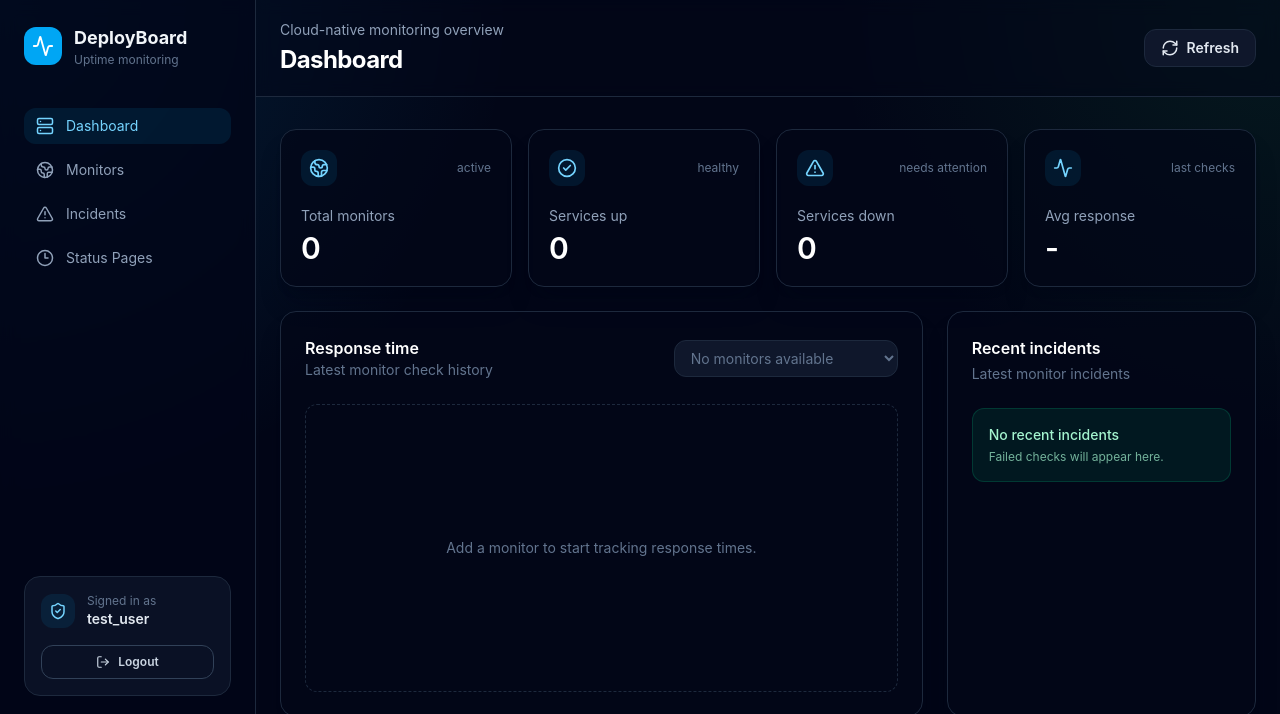
dashboard views › switches between every sidebar view
Expected: the heading "Dashboard" is shown, [280,45,403,74]
Click the button "Monitors": (128, 170) [24,152,231,188]
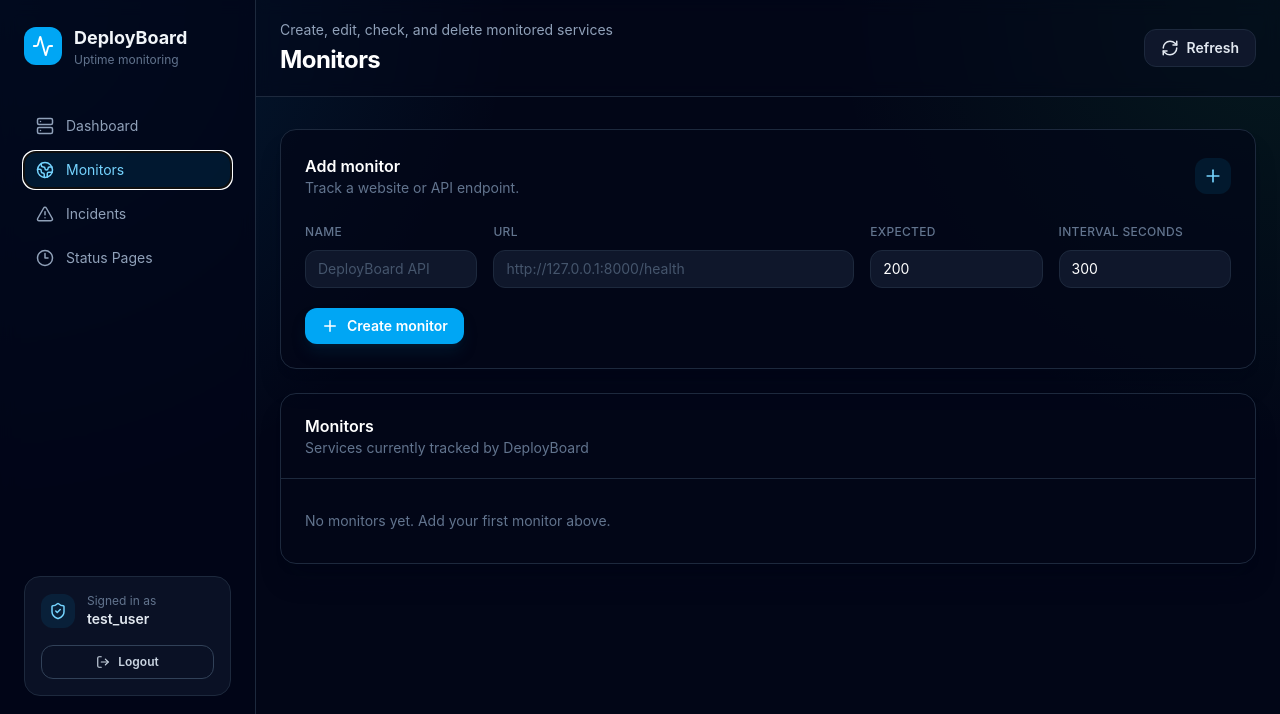
Expected: the 1st heading "Monitors" is shown, [280,45,380,74]
Click the button "Incidents": (128, 214) [24,196,231,232]
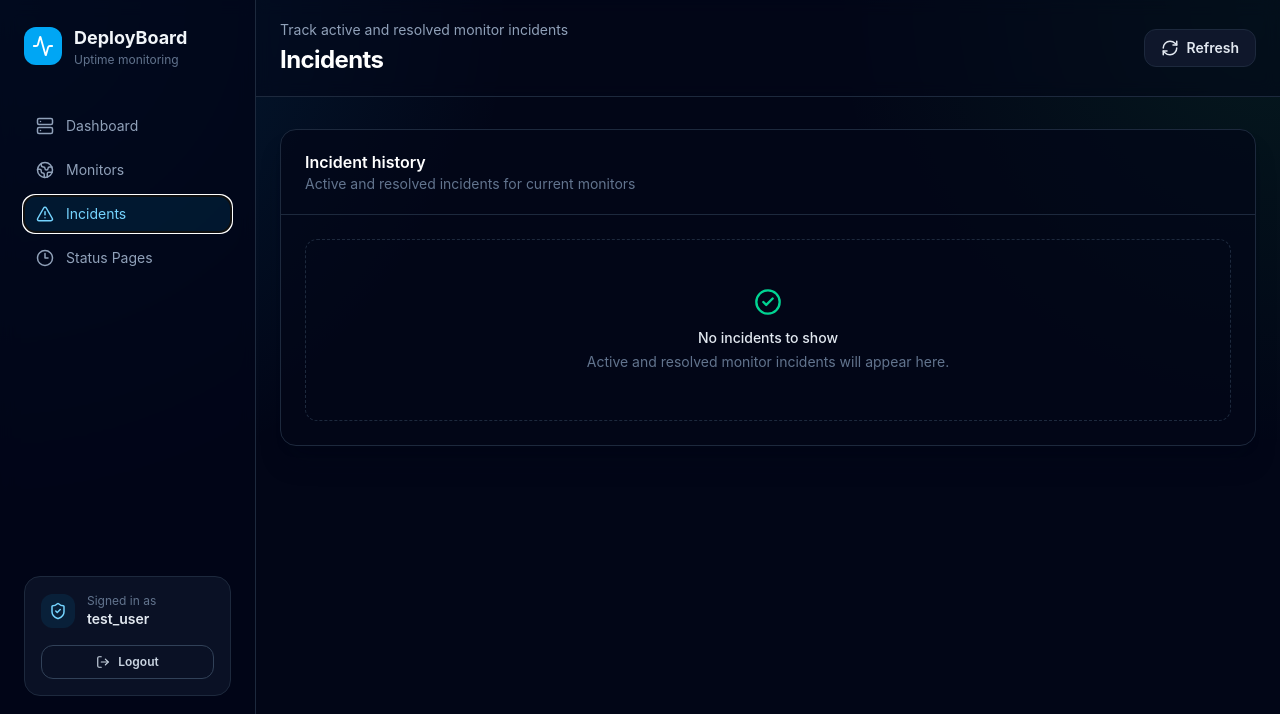
Expected: the heading "Incidents" is shown, [280,45,383,74]
Click the button "Status Pages": (128, 258) [24,240,231,276]
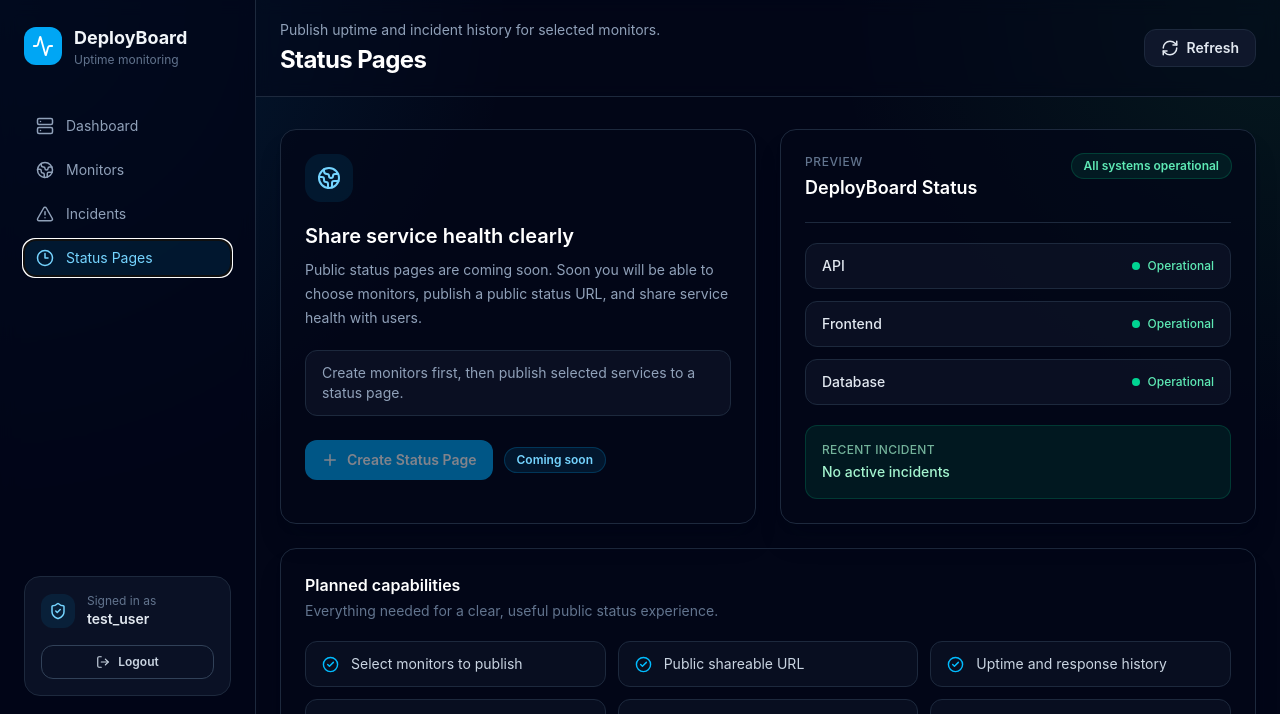
Expected: the heading "Status Pages" is shown, [280,45,426,74]
Click the button "Dashboard": (128, 126) [24,108,231,144]
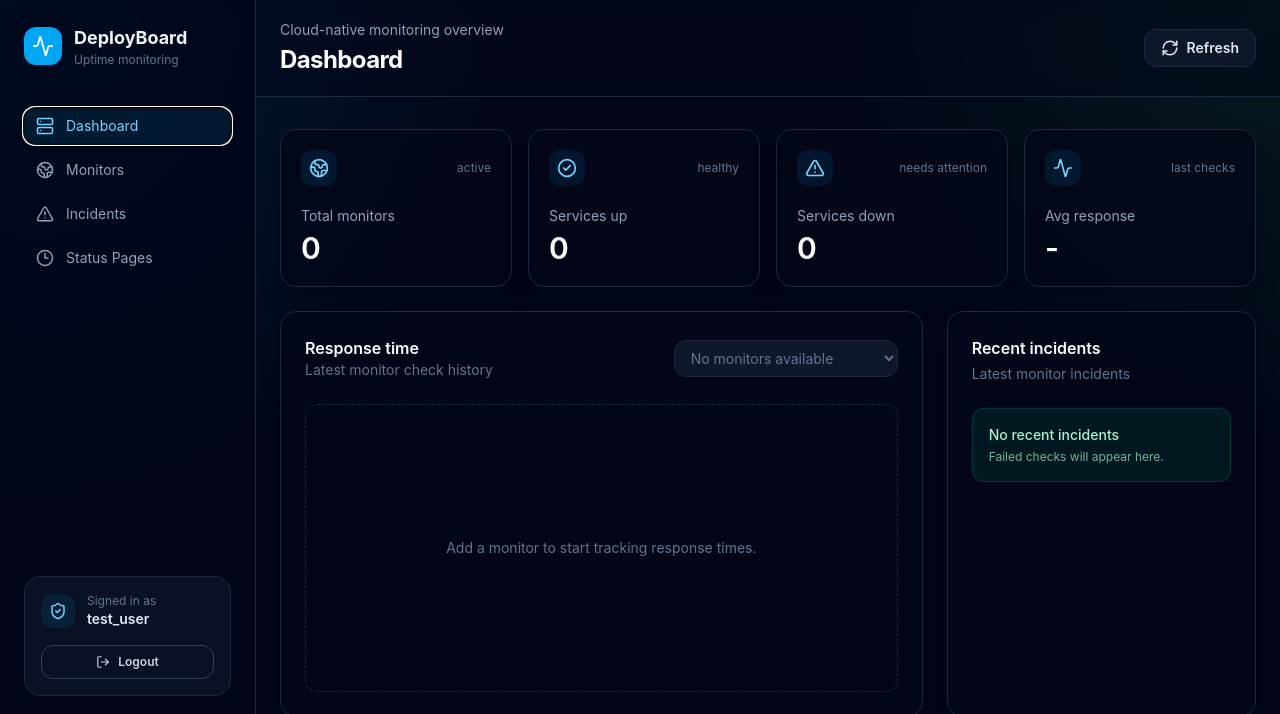
Expected: the heading "Dashboard" is shown, [280,45,403,74]
